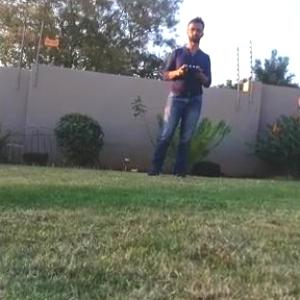follow: (140, 10, 214, 183)
